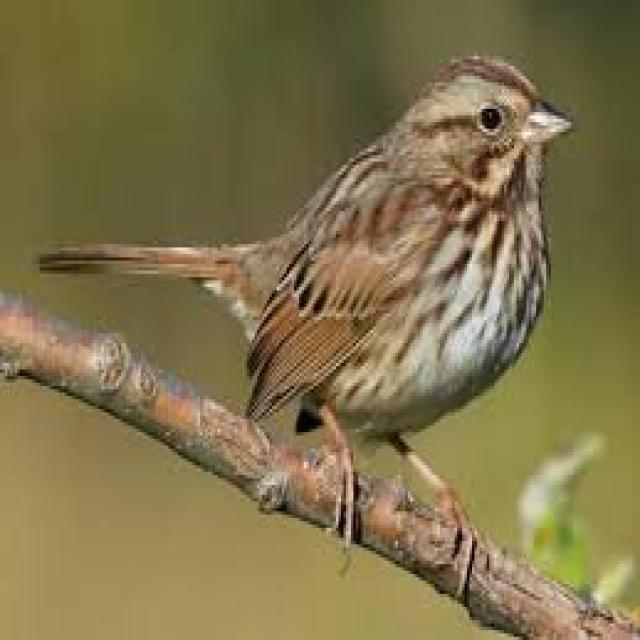Sparrow: (59, 51, 576, 545)
